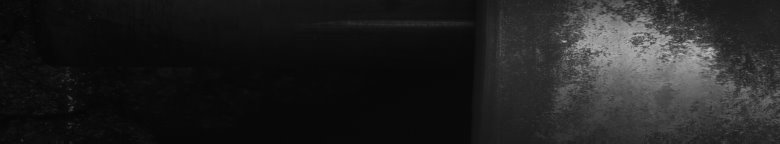kb: (557, 4, 776, 107)
